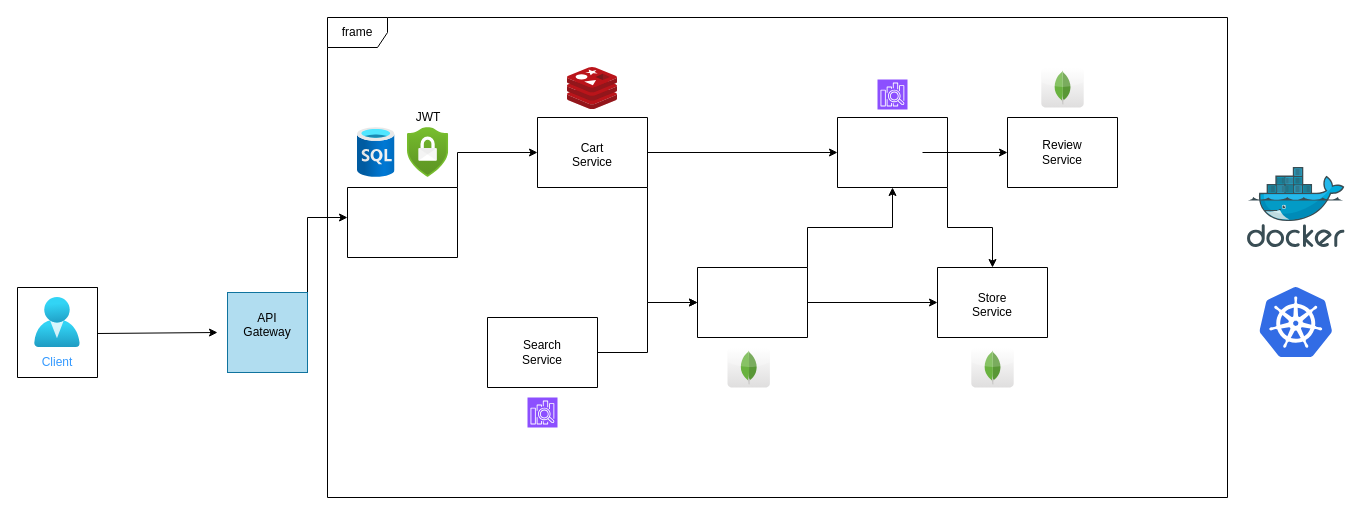
The diagram is 1363 pixels wide and 515 high, and some of its shapes have lost their labels. The shapes that lost their labels are listed below. From the top down, each one's box as (x1, y1, x2, y2) in pixels, then its label:
(836, 116, 948, 188): Recommendation Service
(346, 186, 458, 258): User Service
(696, 266, 808, 338): Component Service
